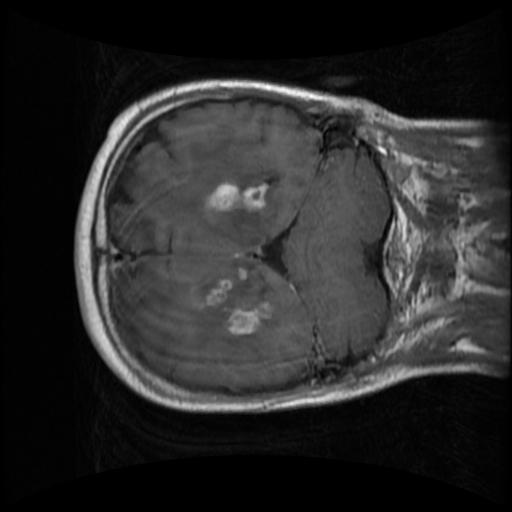glioma: (204, 182, 269, 214)
